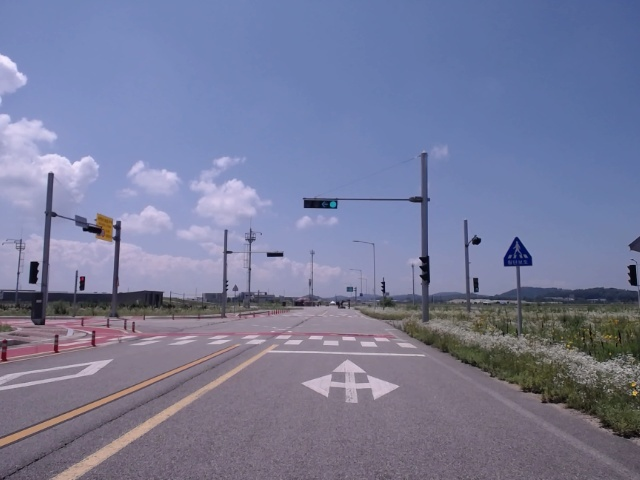all_green_4: (304, 199, 338, 210)
